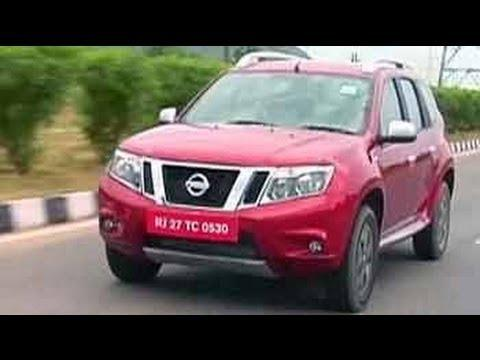License-Plate: (146, 210, 235, 243)
